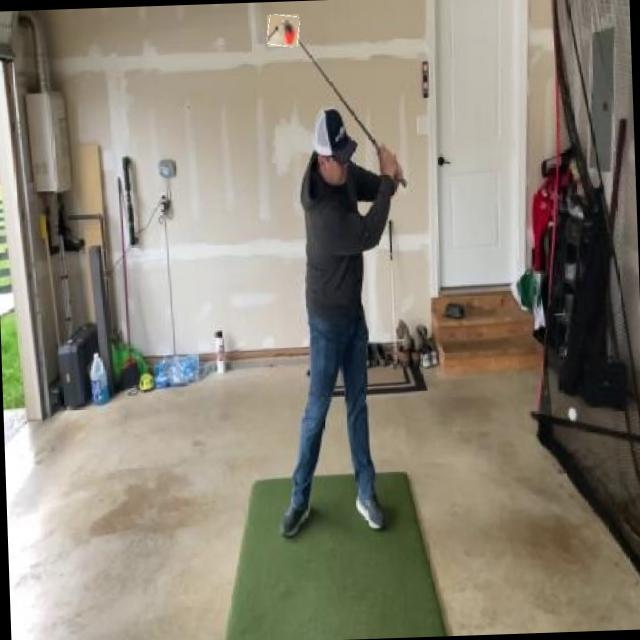club head: (266, 14, 300, 46)
